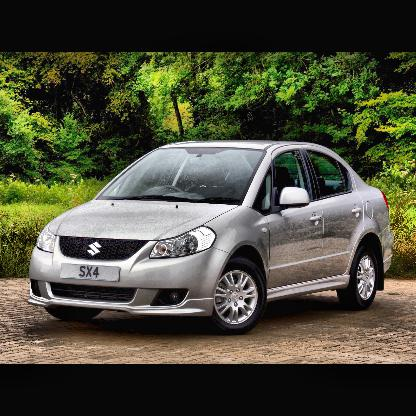Suzuki Aerio Sedan 2007: (26, 138, 399, 339)
